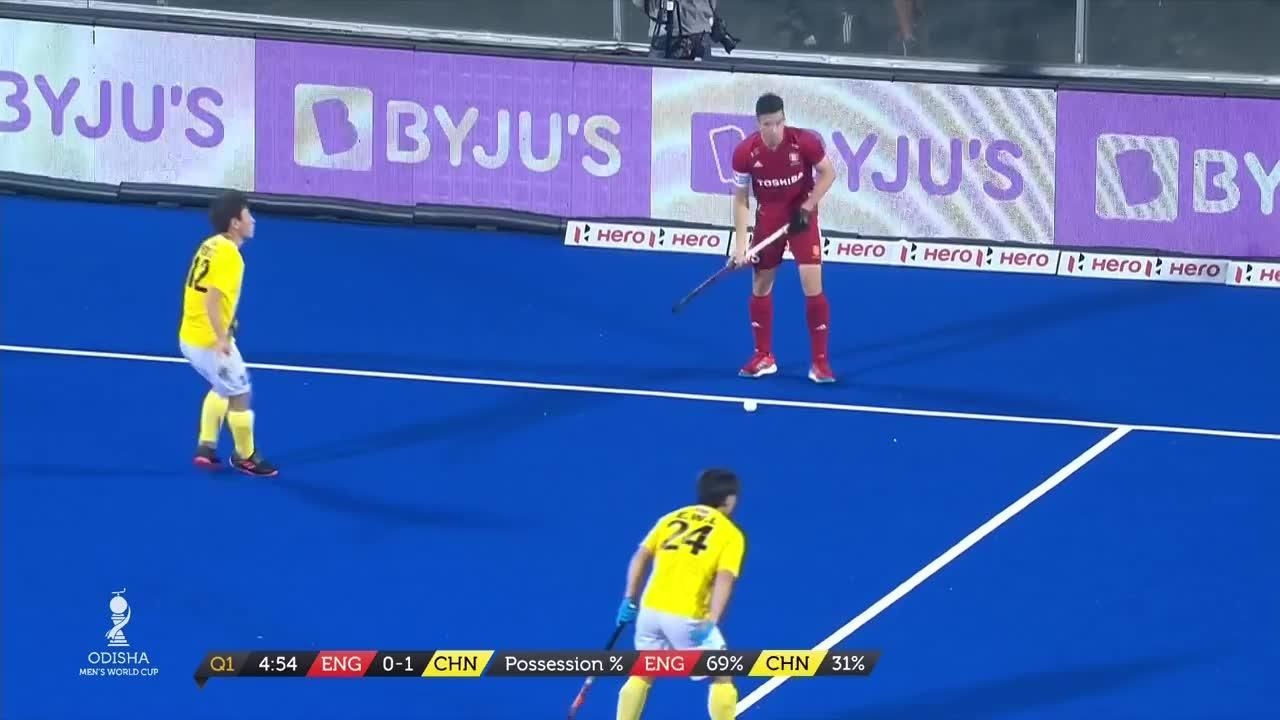ball: (743, 395, 763, 415)
